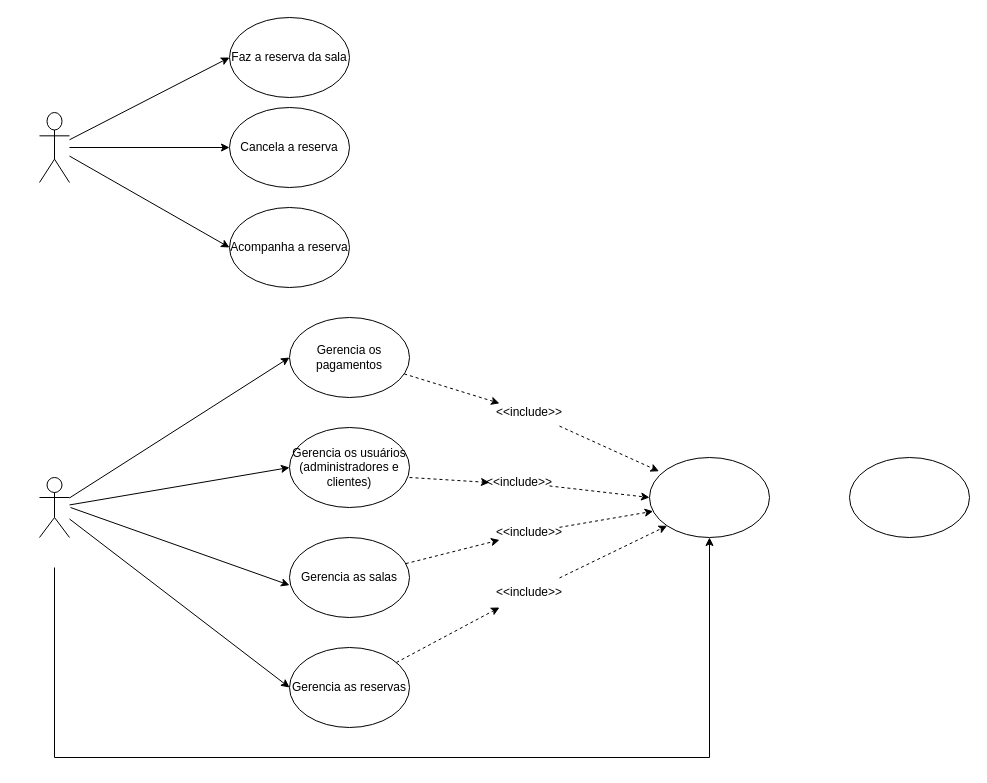
This 987x783 diagram has some shape labels left out. The shapes that lost their labels are listed below. From the top down, each one's box as (x1, y1, x2, y2) in pixels, then its label:
(38, 112, 70, 182): Cliente
(38, 476, 70, 538): Administrador
(648, 456, 770, 538): Autenticar no sistema
(848, 456, 970, 538): Registra pagamento do uso da sala
